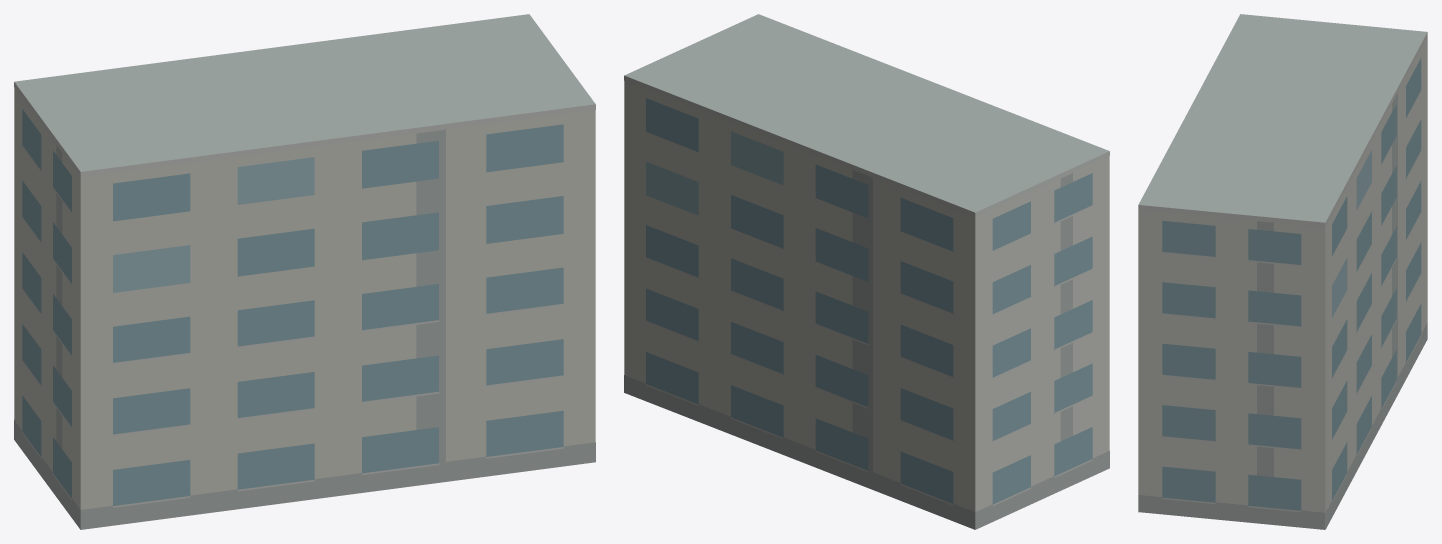
Rendered from residential-e8b385fa-47fb-4f81-a91f-bd6f389d2116.glb.
3 renders of one model, left to right at view 1: azimuth 30°, elevation 25°; view 2: azimuth 150°, elevation 25°; view 3: azimuth 270°, elevation 25°, orthographic. The views are drawn at different scales.
Parts seen in each view (by area): view 1: residential-e8b385fa-47fb-4f81-a91f-bd6f389d2116.tmp; view 2: residential-e8b385fa-47fb-4f81-a91f-bd6f389d2116.tmp; view 3: residential-e8b385fa-47fb-4f81-a91f-bd6f389d2116.tmp.
Boxes of the visible parts, box(x1,y1,x2,y2) form: residential-e8b385fa-47fb-4f81-a91f-bd6f389d2116.tmp: box(14, 14, 595, 529); residential-e8b385fa-47fb-4f81-a91f-bd6f389d2116.tmp: box(624, 14, 1109, 529); residential-e8b385fa-47fb-4f81-a91f-bd6f389d2116.tmp: box(1138, 14, 1427, 529).
Bounding box in the file's own units: 22.23 × 15.25 × 13.02.
